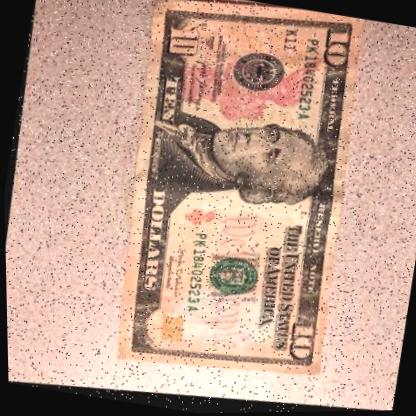ten-front: (87, 0, 380, 400)
